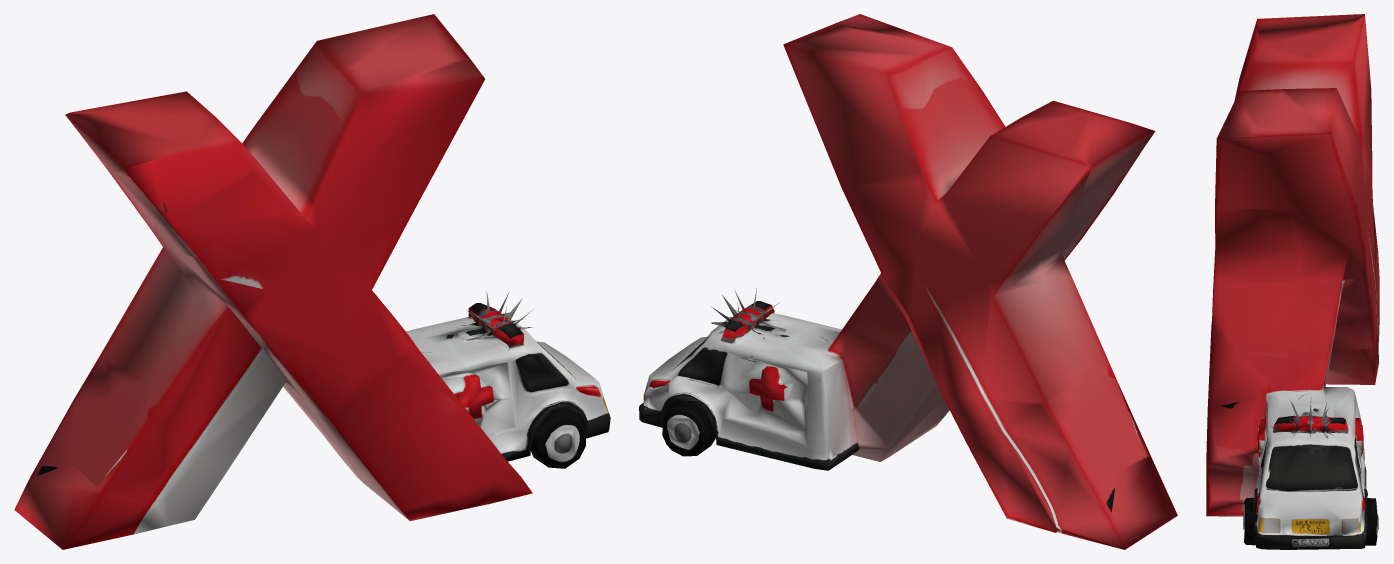
The model's file is urgentcarex.glb.
The picture shows the model from 3 angles, left to right: view 1: azimuth 30°, elevation 25°; view 2: azimuth 150°, elevation 25°; view 3: azimuth 270°, elevation 25°; orthographic projection. The views are drawn at different scales.
Visible parts, largest first — view 1: tripo_node_5f7ef7dc-4208-44d9-854e-b8dd4268a0fc; view 2: tripo_node_5f7ef7dc-4208-44d9-854e-b8dd4268a0fc; view 3: tripo_node_5f7ef7dc-4208-44d9-854e-b8dd4268a0fc.
Boxes of the visible parts, bbox=[...] form: tripo_node_5f7ef7dc-4208-44d9-854e-b8dd4268a0fc: bbox=[14, 14, 610, 549]; tripo_node_5f7ef7dc-4208-44d9-854e-b8dd4268a0fc: bbox=[639, 14, 1177, 549]; tripo_node_5f7ef7dc-4208-44d9-854e-b8dd4268a0fc: bbox=[1206, 14, 1379, 549].
Size of the model in its own units: 0.9772 by 0.7691 by 0.3215.
Materials: 1 (1 with a texture image).
